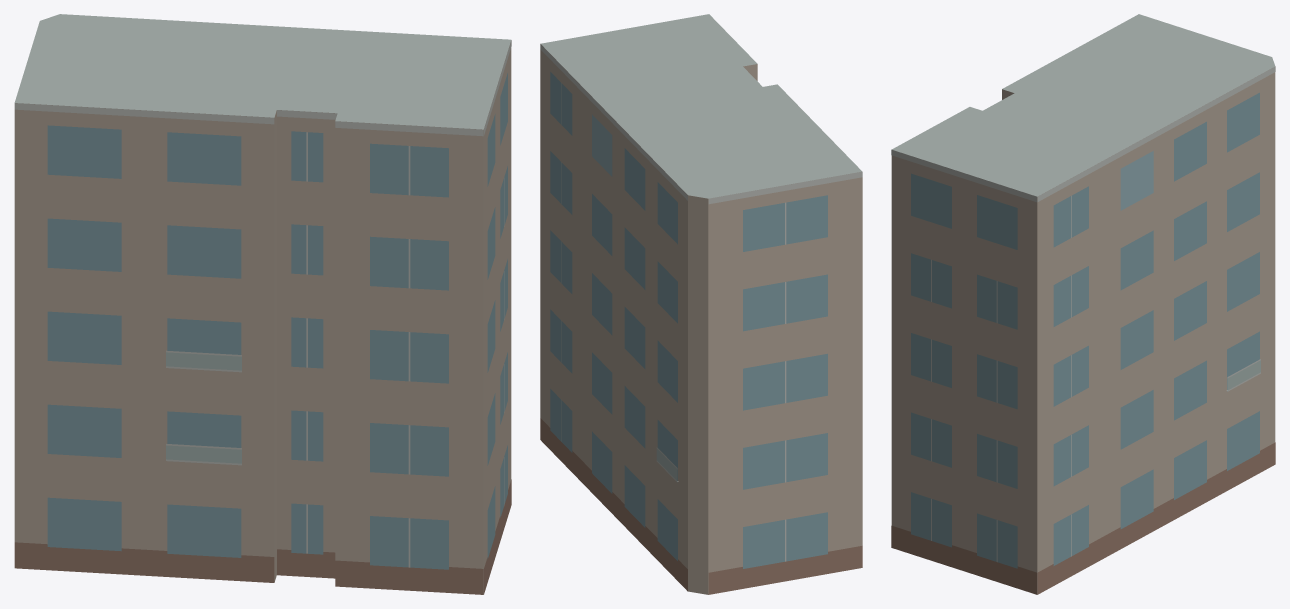
The model's file is survey-upis-32578743.glb.
The picture shows the model from 3 angles, left to right: view 1: azimuth 30°, elevation 25°; view 2: azimuth 150°, elevation 25°; view 3: azimuth 270°, elevation 25°; orthographic projection. The views are drawn at different scales.
Parts seen in each view (by area): view 1: survey-upis-32578743.tmp; view 2: survey-upis-32578743.tmp; view 3: survey-upis-32578743.tmp.
Boxes of the visible parts, x1,y1,x2,y2 form: survey-upis-32578743.tmp: [14, 14, 511, 594]; survey-upis-32578743.tmp: [540, 14, 862, 594]; survey-upis-32578743.tmp: [891, 14, 1275, 594].
Size of the model in its own units: 16.74 by 17 by 14.86.
